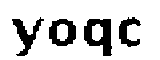c: (118, 17, 144, 49)
o: (48, 17, 78, 48)
q: (82, 17, 115, 60)
y: (6, 14, 46, 60)
